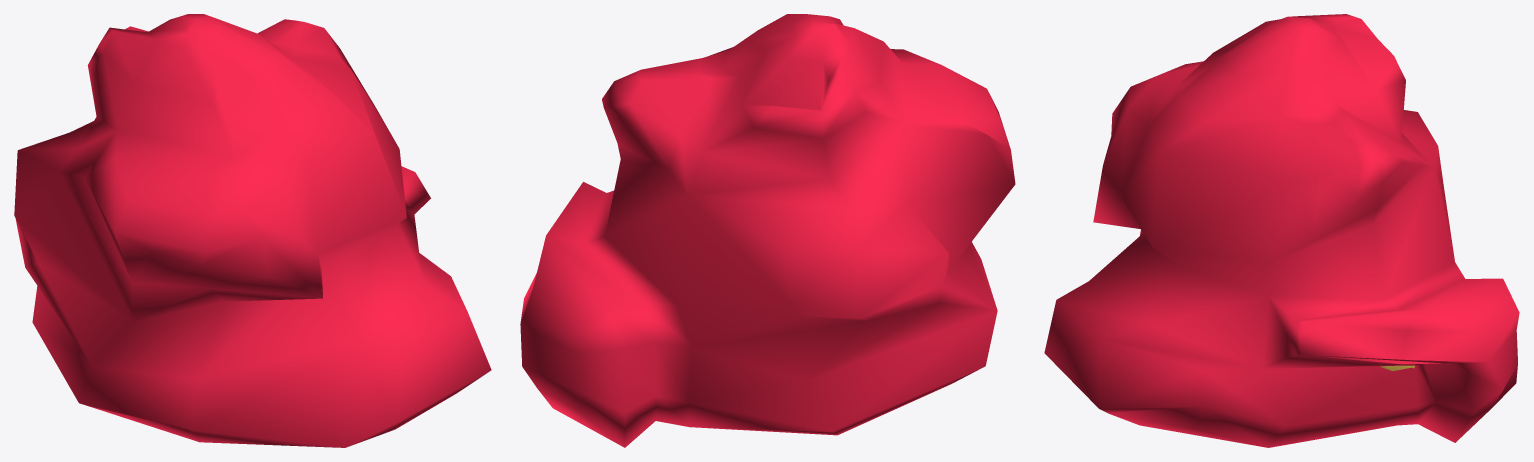
File: Explosion.obj
3 views of the same model, side by side, from view 1: azimuth 30°, elevation 25°; view 2: azimuth 150°, elevation 25°; view 3: azimuth 270°, elevation 25° (orthographic). The views are drawn at different scales.
Visible parts, largest first — view 1: pSphere9; view 2: pSphere9; view 3: pSphere9.
Part boxes in pixels (bbox=[...]): pSphere9: bbox=[14, 14, 491, 447]; pSphere9: bbox=[520, 14, 1015, 447]; pSphere9: bbox=[1044, 14, 1519, 447].
Bounding box in the file's own units: 2.53 × 2.29 × 2.8.
1 material, 1 textured.
